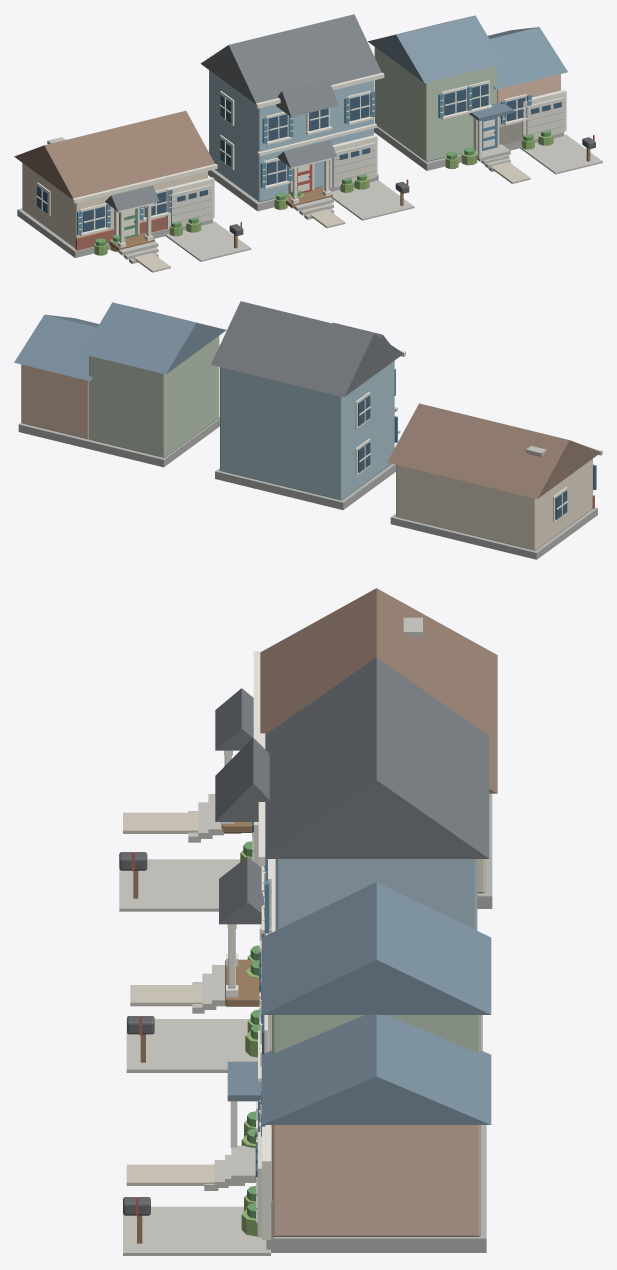
The model's file is suburban_house_prototypes.glb.
3 renders of one model, top to bottom at view 1: azimuth 30°, elevation 25°; view 2: azimuth 150°, elevation 25°; view 3: azimuth 270°, elevation 25°, orthographic. The views are drawn at different scales.
Parts seen in each view (by area): view 1: Ranch_roof, Two_roof, Two_body, Split_left_body, Split_left_roof, Ranch_body, Split_right_roof, Two_driveway, Ranch_driveway, Split_driveway, Two_entry_gable, Two_garage_door (+26 smaller); view 2: Two_body, Ranch_roof, Split_left_body, Two_roof, Ranch_body, Split_left_roof, Split_right_body, Split_right_roof, Split_foundation, Ranch_foundation, Two_foundation; view 3: Two_roof, Split_left_roof, Split_right_body, Split_right_roof, Ranch_roof, Two_body, Split_driveway, Two_driveway, Ranch_driveway, Split_foundation, Split_left_body, Two_entry_gable (+9 smaller).
Boxes of the visible parts, bbox=[...] form: Ranch_roof: bbox=[14, 110, 214, 199]; Two_roof: bbox=[200, 14, 381, 103]; Two_body: bbox=[209, 70, 373, 201]; Split_left_body: bbox=[374, 47, 496, 161]; Split_left_roof: bbox=[368, 15, 503, 83]; Ranch_body: bbox=[22, 163, 207, 248]; Split_right_roof: bbox=[488, 27, 567, 89]; Two_driveway: bbox=[331, 180, 414, 220]; Ranch_driveway: bbox=[165, 221, 251, 261]; Split_driveway: bbox=[520, 134, 602, 174]; Two_entry_gable: bbox=[276, 79, 338, 116]; Two_garage_door: bbox=[332, 142, 375, 187]; Two_body: bbox=[220, 360, 394, 500]; Ranch_roof: bbox=[387, 403, 600, 498]; Split_left_body: bbox=[89, 336, 219, 457]; Two_roof: bbox=[211, 301, 403, 397]; Ranch_body: bbox=[396, 459, 592, 550]; Split_left_roof: bbox=[82, 302, 226, 374]; Split_right_body: bbox=[21, 364, 89, 439]; Split_right_roof: bbox=[14, 314, 99, 381]; Split_foundation: bbox=[18, 416, 219, 467]; Ranch_foundation: bbox=[390, 507, 597, 559]; Two_foundation: bbox=[215, 464, 395, 509]; Two_roof: bbox=[265, 657, 489, 858]; Split_left_roof: bbox=[261, 882, 491, 1014]; Split_right_body: bbox=[272, 1125, 480, 1236]; Split_right_roof: bbox=[261, 1014, 491, 1124]; Ranch_roof: bbox=[260, 588, 497, 793]; Two_body: bbox=[275, 859, 477, 930]; Split_driveway: bbox=[123, 1206, 270, 1255]; Two_driveway: bbox=[126, 1019, 257, 1072]; Ranch_driveway: bbox=[119, 859, 240, 911]; Split_foundation: bbox=[266, 1125, 486, 1252]; Split_left_body: bbox=[272, 1015, 480, 1053]; Two_entry_gable: bbox=[215, 737, 269, 821].
Bounding box in the file's own units: 30.95 × 8.93 × 10.22.
